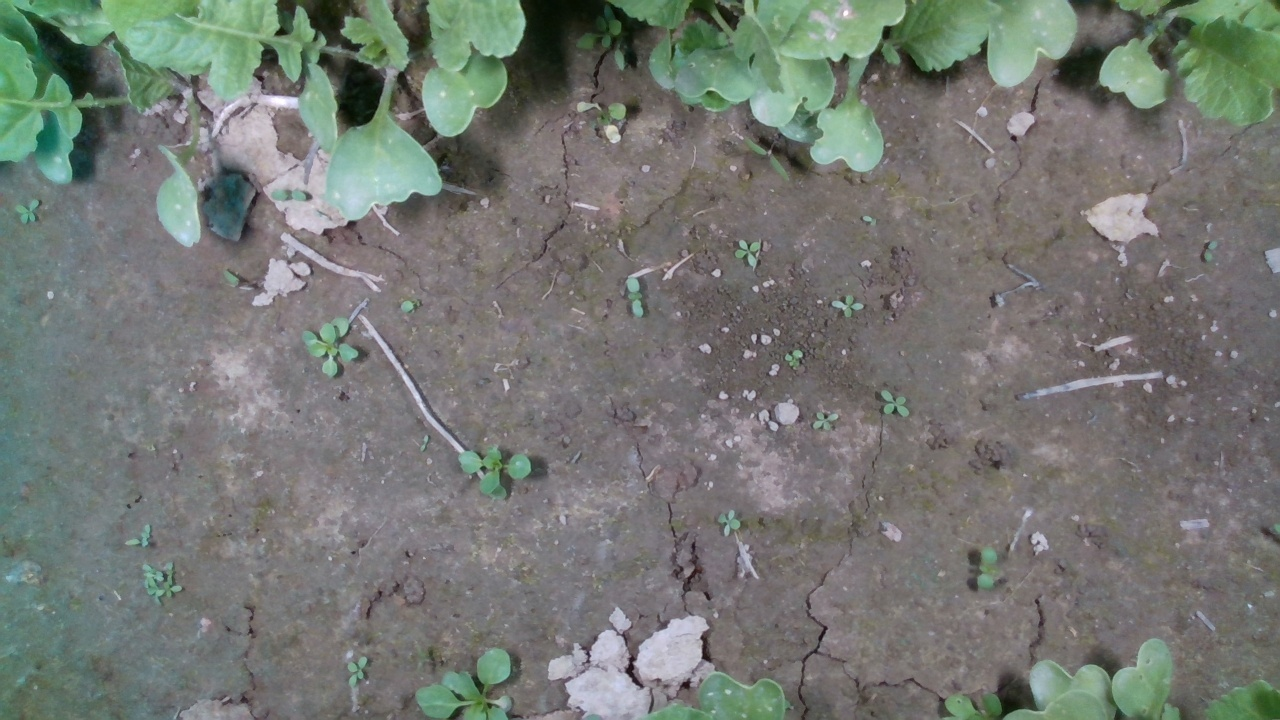weed: (878, 389, 911, 418)
